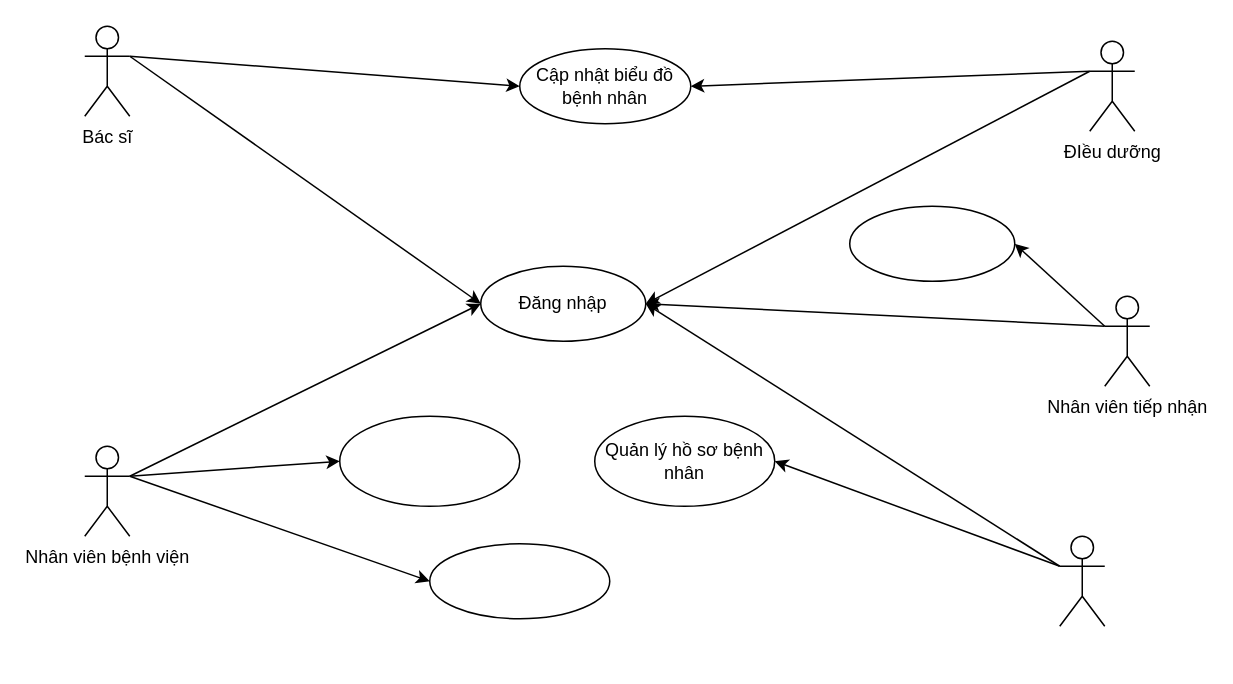
Some shapes in this 1233 by 684 pixel diagram are drawn without their labels. The shapes that lost their labels are listed below. From the top down, each one's centre as x and y in pixels, then its label:
At [931,243]: "Tiếp nhận bệnh nhân".
At [429,460]: "Truy xuất hồ sơ bệnh nhân".
At [519,580]: "Xử lý xuất viện".
At [1081,580]: "Quản lý bệnh viện".
